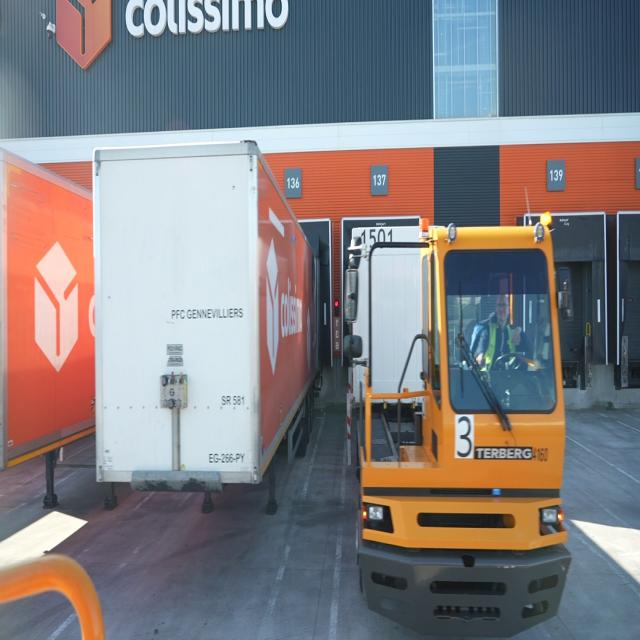Code: (359, 225, 399, 259)
